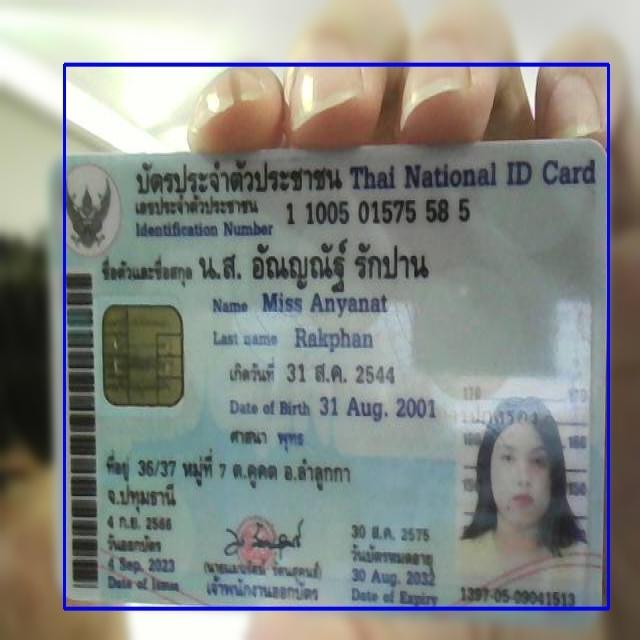Address_th: (101, 445, 370, 515)
Date_of_Birth: (316, 390, 441, 427)
Date_of_Expiry: (348, 566, 441, 590)
Date_of_Issue: (102, 552, 185, 580)
First_Name: (258, 289, 391, 319)
ID_Number: (283, 195, 478, 230)
Image: (460, 379, 586, 590)
Last_Name: (291, 323, 375, 356)
Thai_Name: (196, 237, 435, 295)
